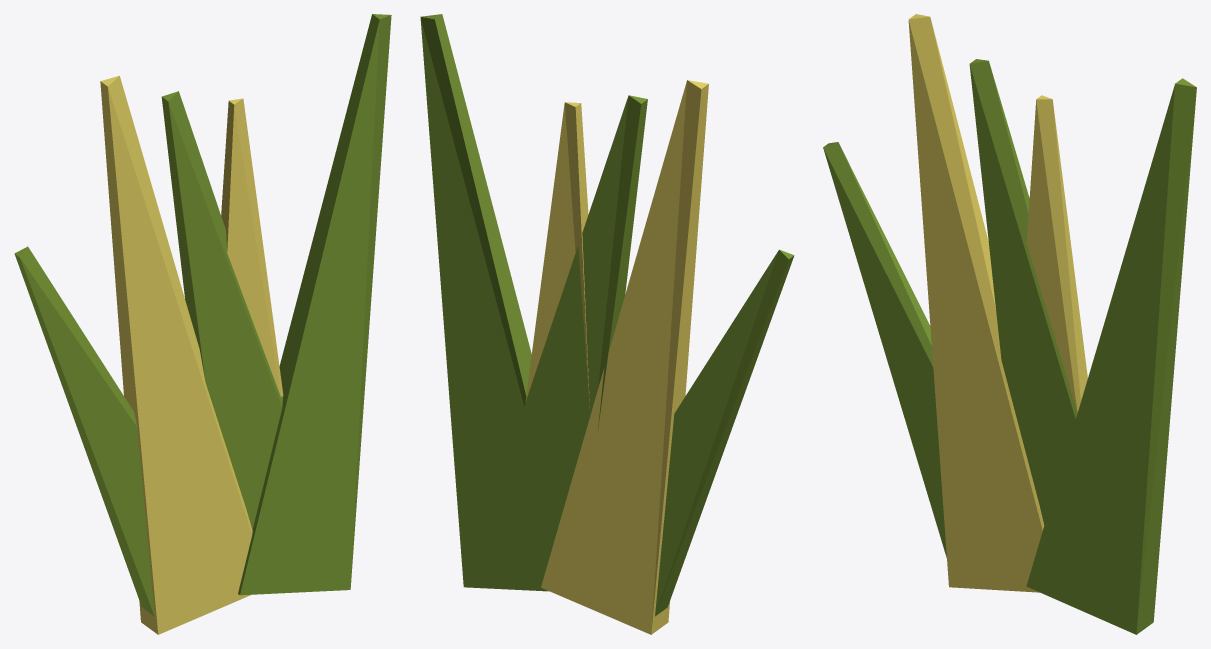
The model's file is grass1.glb.
The picture shows the model from 3 angles, left to right: view 1: azimuth 30°, elevation 25°; view 2: azimuth 150°, elevation 25°; view 3: azimuth 330°, elevation 25°; orthographic projection.
Parts seen in each view (by area): view 1: Grass_1_Autumn_1; view 2: Grass_1_Autumn_1; view 3: Grass_1_Autumn_1.
Boxes of the visible parts, box(x1,y1,x2,y2) form: Grass_1_Autumn_1: box(14, 14, 391, 634); Grass_1_Autumn_1: box(420, 14, 794, 634); Grass_1_Autumn_1: box(823, 14, 1196, 634).
Size of the model in its own units: 0.2363 by 0.3378 by 0.0211.
1 material, 1 textured.
